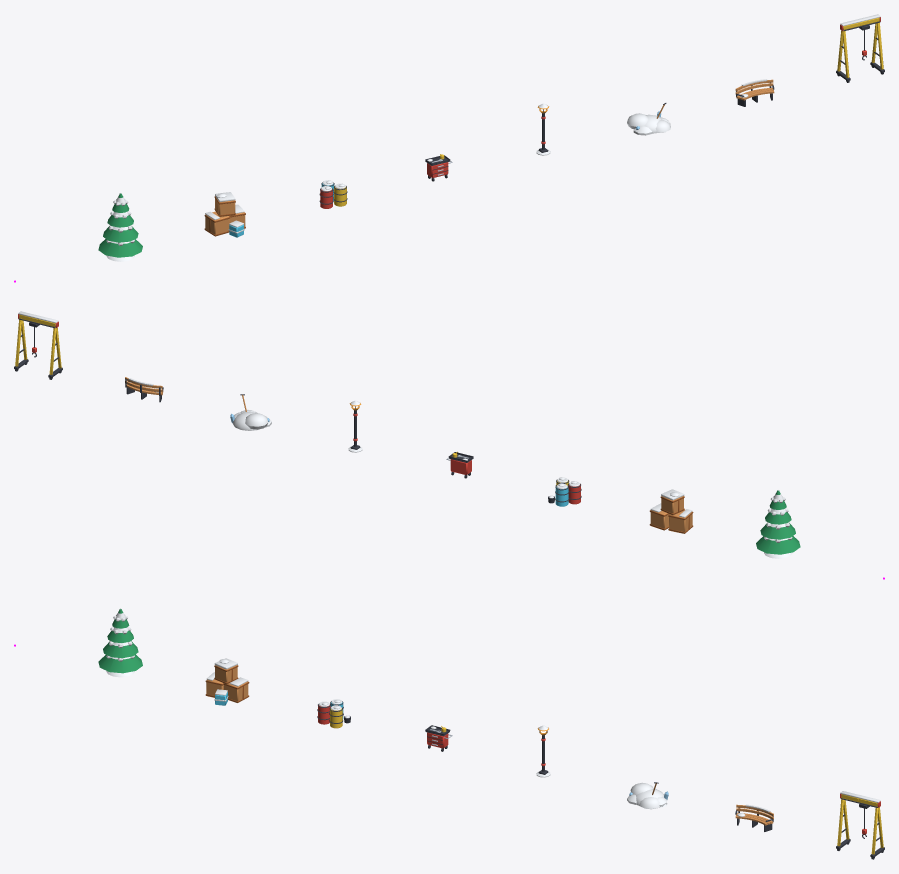
File: Pack_Props.fbx
3 views of the same model, one above another, from view 1: azimuth 30°, elevation 25°; view 2: azimuth 150°, elevation 25°; view 3: azimuth 330°, elevation 25° (orthographic).
Parts seen in each view (by area): view 1: GaragePineTree__Needles__2F9E62SP, GarageCrateStack__Wood__E09A5ASP, GarageHoistCrane__Yellow__FFD23ASP, GarageSnowPile__Snow__F6FAFFSP; view 2: GaragePineTree__Needles__2F9E62SP, GarageCrateStack__Wood__E09A5ASP, GarageHoistCrane__Yellow__FFD23ASP, GarageSnowPile__Snow__F6FAFFSP; view 3: GaragePineTree__Needles__2F9E62SP, GarageCrateStack__Wood__E09A5ASP, GarageHoistCrane__Yellow__FFD23ASP, GarageSnowPile__Snow__F6FAFFSP, GaragePineTree__Snow__F6FAFFSP.
Boxes of the visible parts, x1,y1,x2,y2 form: GaragePineTree__Needles__2F9E62SP: (98,193,142,257); GarageCrateStack__Wood__E09A5ASP: (205,196,245,236); GarageHoistCrane__Yellow__FFD23ASP: (837,17,883,77); GarageSnowPile__Snow__F6FAFFSP: (627,113,670,135); GaragePineTree__Needles__2F9E62SP: (756,490,800,554); GarageCrateStack__Wood__E09A5ASP: (650,496,692,533); GarageHoistCrane__Yellow__FFD23ASP: (15,314,61,374); GarageSnowPile__Snow__F6FAFFSP: (232,410,271,430); GaragePineTree__Needles__2F9E62SP: (98,609,142,673); GarageCrateStack__Wood__E09A5ASP: (206,665,248,702); GarageHoistCrane__Yellow__FFD23ASP: (837,794,883,854); GarageSnowPile__Snow__F6FAFFSP: (627,782,667,809); GaragePineTree__Snow__F6FAFFSP: (106,608,134,677).
Bounding box in the file's own units: 131 × 9.18 × 6.
